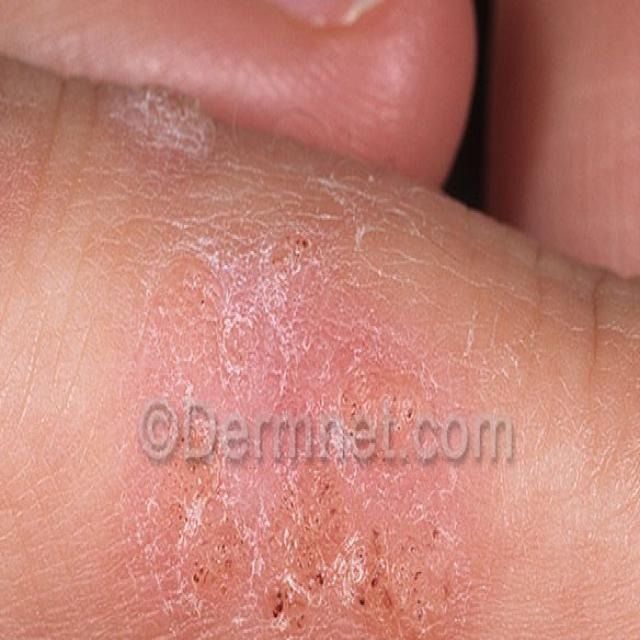Warts: (149, 214, 473, 640), (106, 72, 240, 177)
